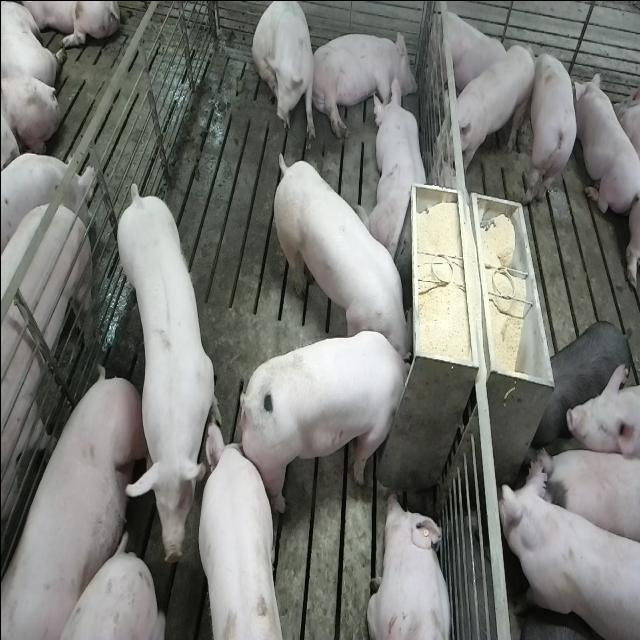Feeding: (243, 329, 420, 513), (268, 143, 410, 359)
Lateral_lying: (308, 27, 416, 139)
Sitting: (251, 0, 316, 144)
Standing: (0, 196, 96, 640), (112, 185, 218, 518), (497, 461, 639, 640), (196, 417, 288, 638), (532, 318, 632, 449), (526, 442, 636, 551), (440, 47, 535, 173), (524, 44, 578, 215)
Sternal_lying: (365, 490, 453, 640), (361, 78, 430, 260), (574, 65, 638, 217), (426, 4, 511, 100)
